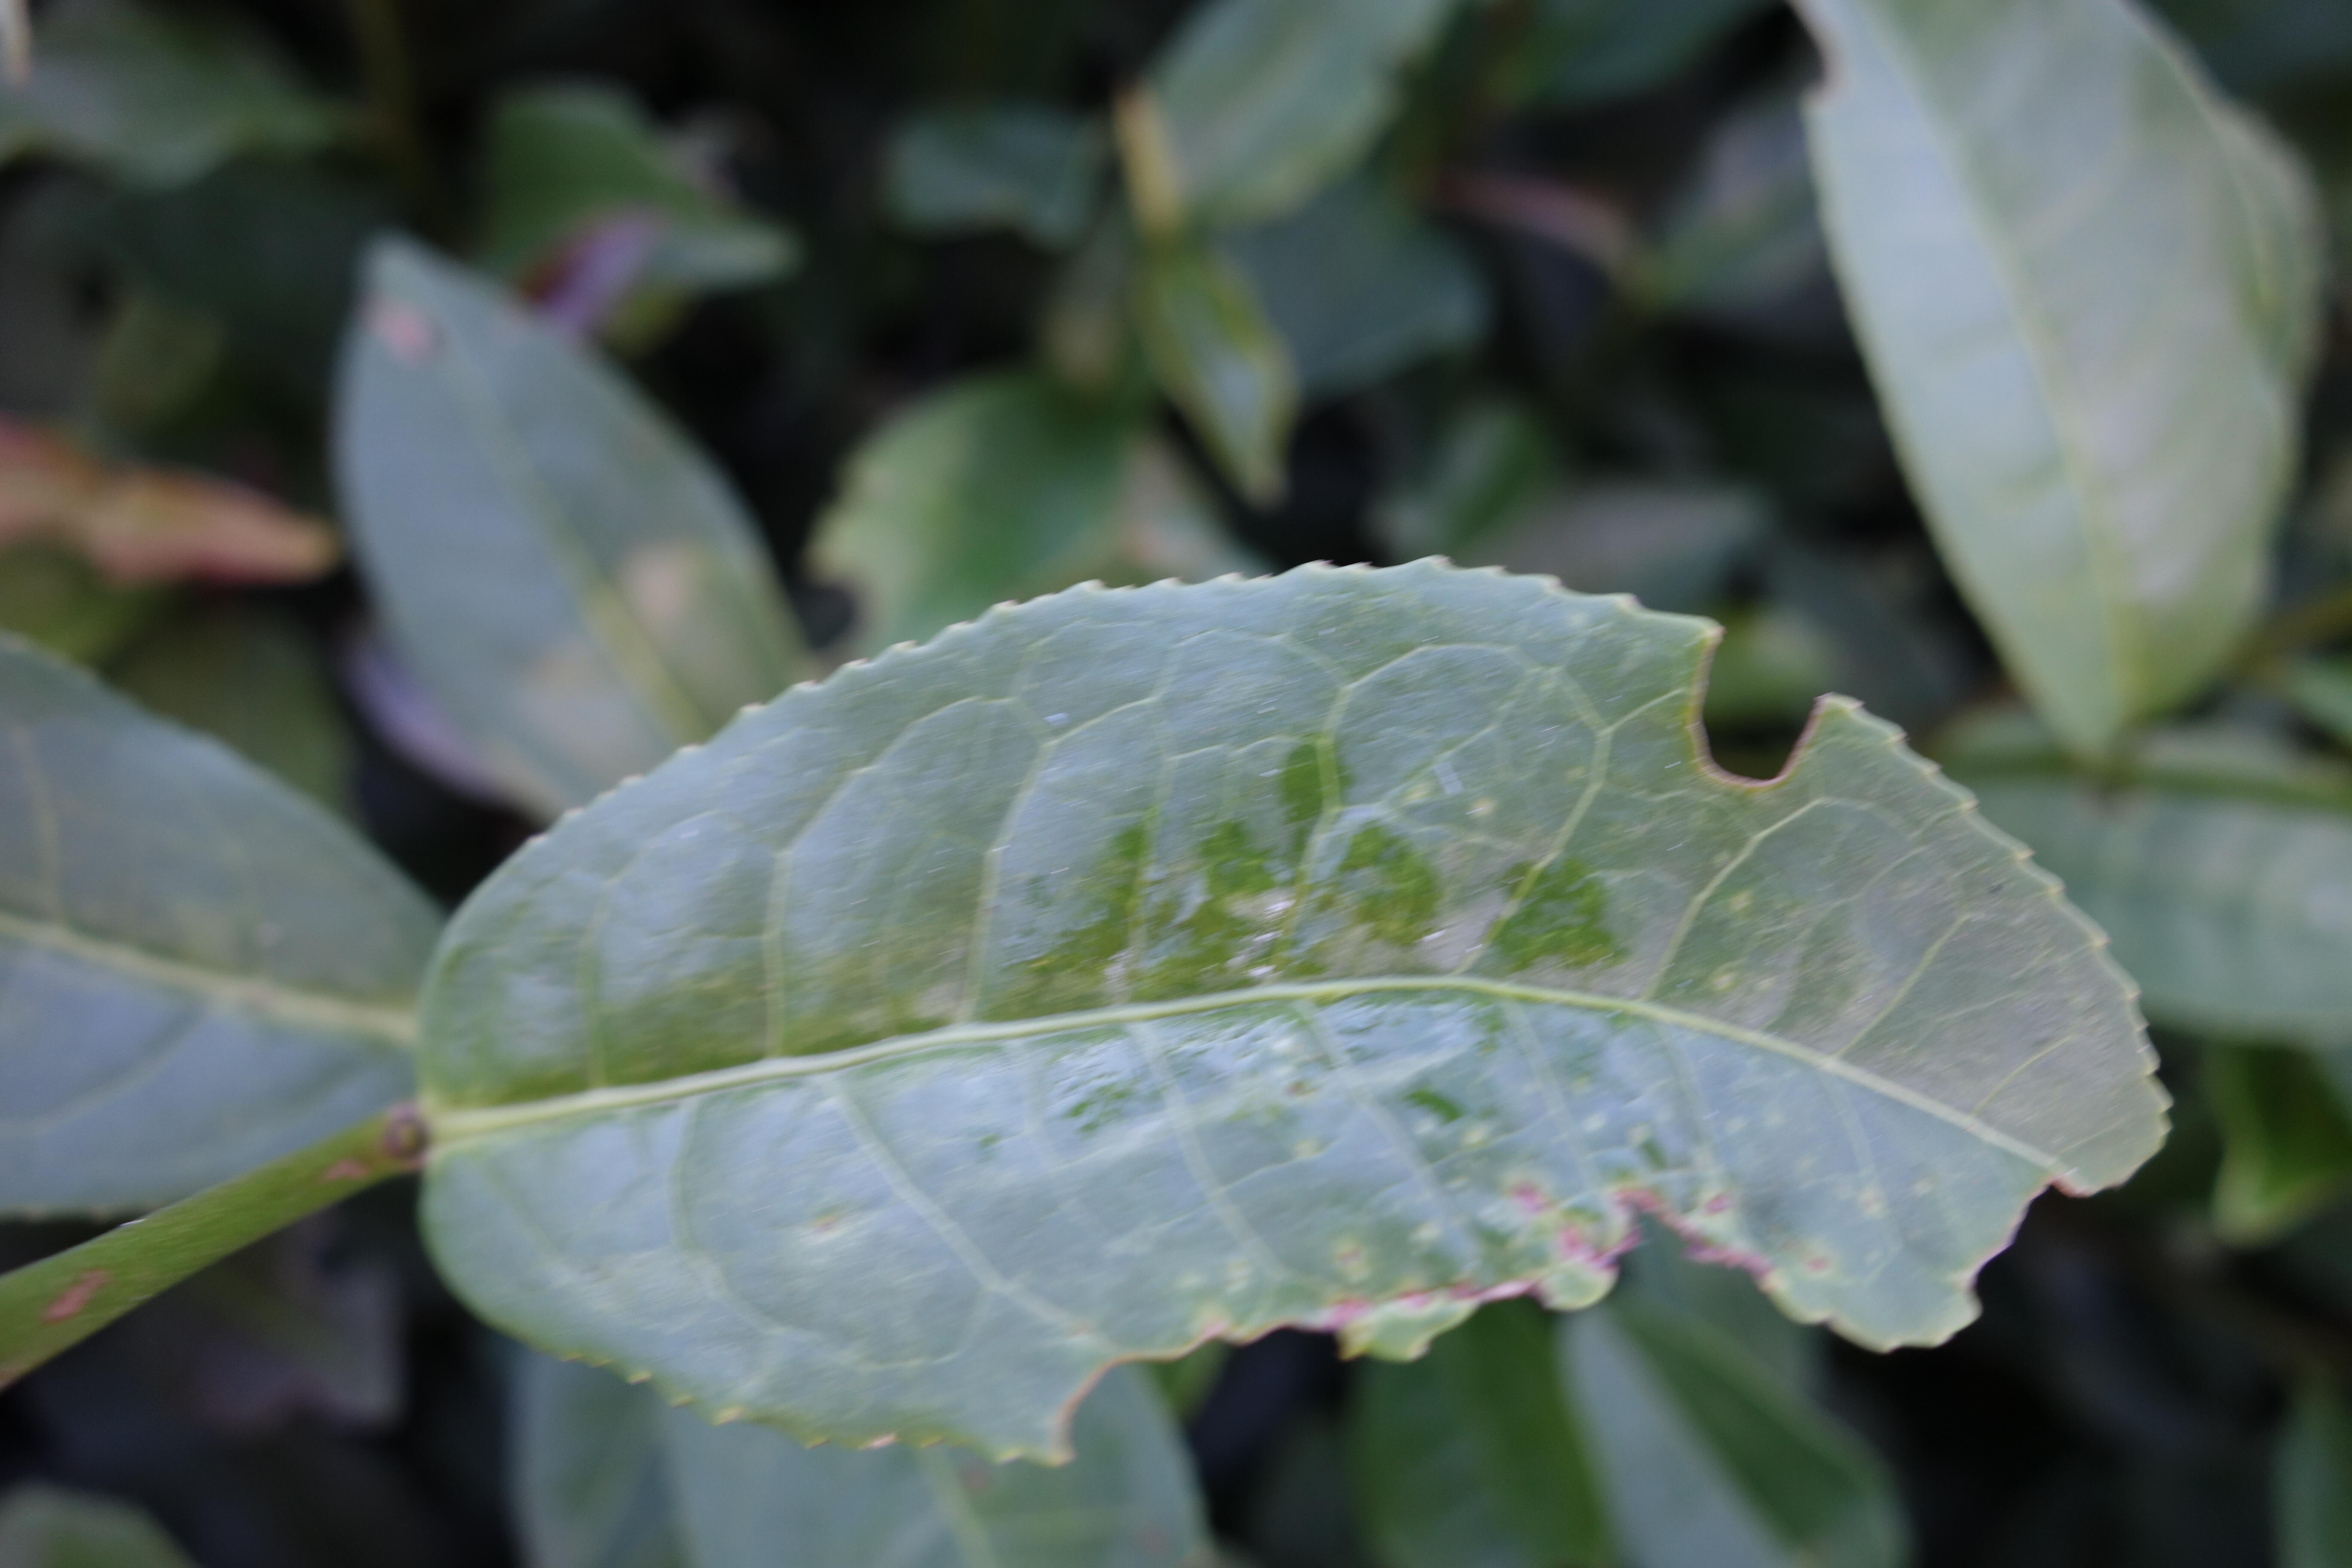chihuo_high: (413, 549, 2175, 1477)
